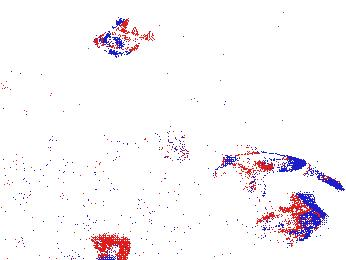X-ray fish: (93, 24, 159, 55), (152, 127, 191, 165)
red belly glassfish: (258, 223, 309, 242), (306, 163, 333, 184)
redtail glassfish: (215, 151, 309, 175)
